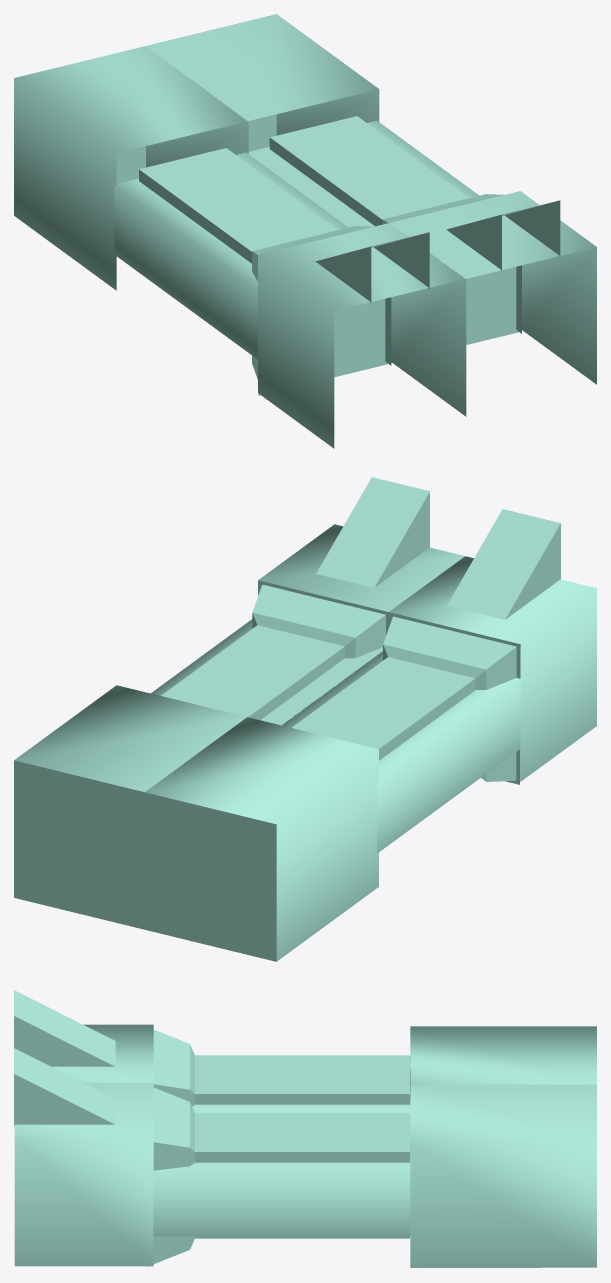
3 renders of one model, top to bottom at view 1: azimuth 30°, elevation 25°; view 2: azimuth 150°, elevation 25°; view 3: azimuth 270°, elevation 25°, orthographic. The views are drawn at different scales.
Parts seen in each view (by area): view 1: Object65; view 2: Object65; view 3: Object65.
Boxes of the visible parts, <box> form: Object65: <box>14,14,596,448</box>; Object65: <box>14,477,596,961</box>; Object65: <box>14,990,596,1267</box>.
Size of the model in its own units: 13648 by 9757 by 28818.
